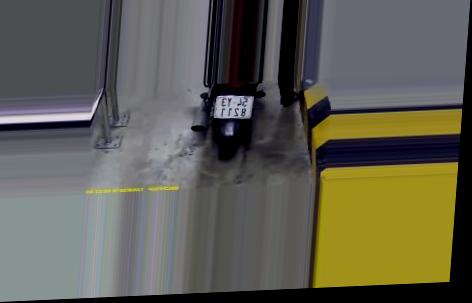License_Plate: (210, 92, 257, 125)
